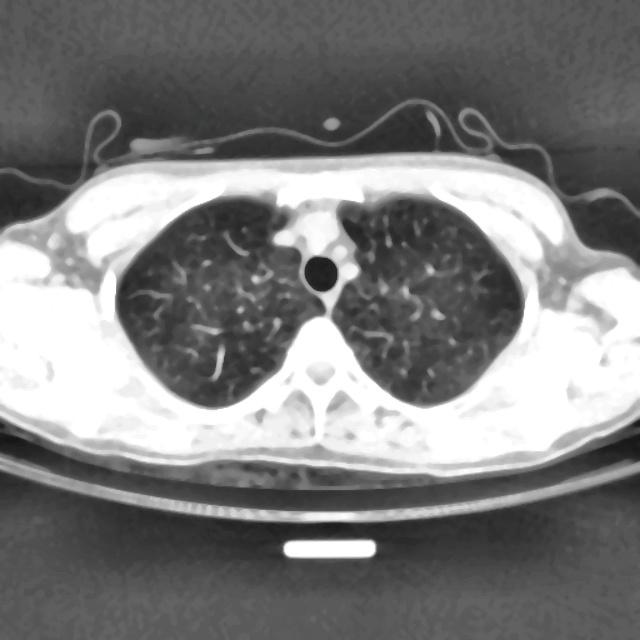covid: (0, 111, 639, 494)
